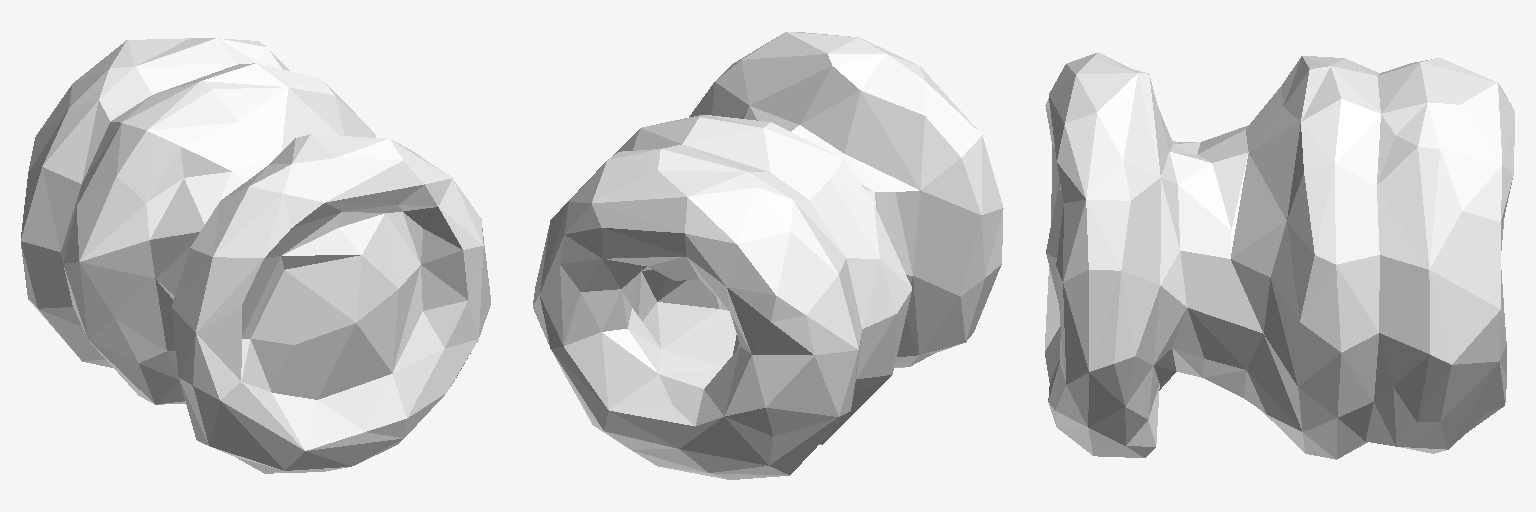
URDF robot description (atb1_conn-bnc):
<?xml version="0.0" ?>
<robot name="atb1_conn-bnc">
  <link name="baseLink">
    <contact>
      <friction_anchor/>
      <lateral_friction value="0.8"/>
      <spinning_friction value="0.001"/>
      <rolling_friction value="0.001"/>
      <contact_cfm value="0.0"/>
      <contact_erp value="0.2"/>
    </contact>
    <inertial>
       <origin rpy="0 0 0" xyz="0 0 0"/>
       <mass value="0.01"/>
       <inertia ixx="1e-3" ixy="0" ixz="0" iyy="1e-3" iyz="0" izz="1e-3"/>
    </inertial>
    <visual>
      <origin rpy="0 0 0" xyz="0 0 0"/>
      <geometry>
        <mesh filename="obj/fused_model.obj" scale="1 1 1"/>
      </geometry>
      <material name="white">
        <color rgba="1. 1. 1. 1."/>
      </material>
    </visual>
    <collision>
      <origin rpy="0 0 0" xyz="0 0 0"/>
      <geometry>
        <mesh filename="obj/fused_model.obj" scale="1 1 1"/>
      </geometry>
    </collision>
  </link>
</robot>

--- What the picture shows (computed from the rendered views, not written in the file) ---
3 views of the same robot in one strip: view 1: azimuth 30°, elevation 25°; view 2: azimuth 150°, elevation 25°; view 3: azimuth 270°, elevation 25° (orthographic).
Model atb1_conn-bnc with 1 links and 0 joints (none), rooted at baseLink, posed every joint at zero.
Links seen in each view (by area): view 1: baseLink; view 2: baseLink; view 3: baseLink.
Link boxes in pixels (x1,y1,x2,y2): baseLink: [21, 38, 490, 473]; baseLink: [533, 32, 1003, 479]; baseLink: [1045, 52, 1514, 459].
Bounding box of the posed robot: 0.0145 × 0.0165 × 0.014 m (x, y, z).
1 mesh visuals loaded from 1 distinct referenced files (1 OBJ).
